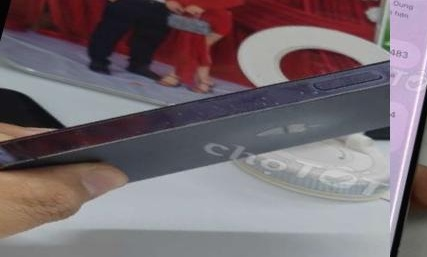scratch: (202, 52, 338, 152), (104, 89, 198, 160), (336, 6, 390, 124)
screen_defect: (390, 0, 427, 257)
